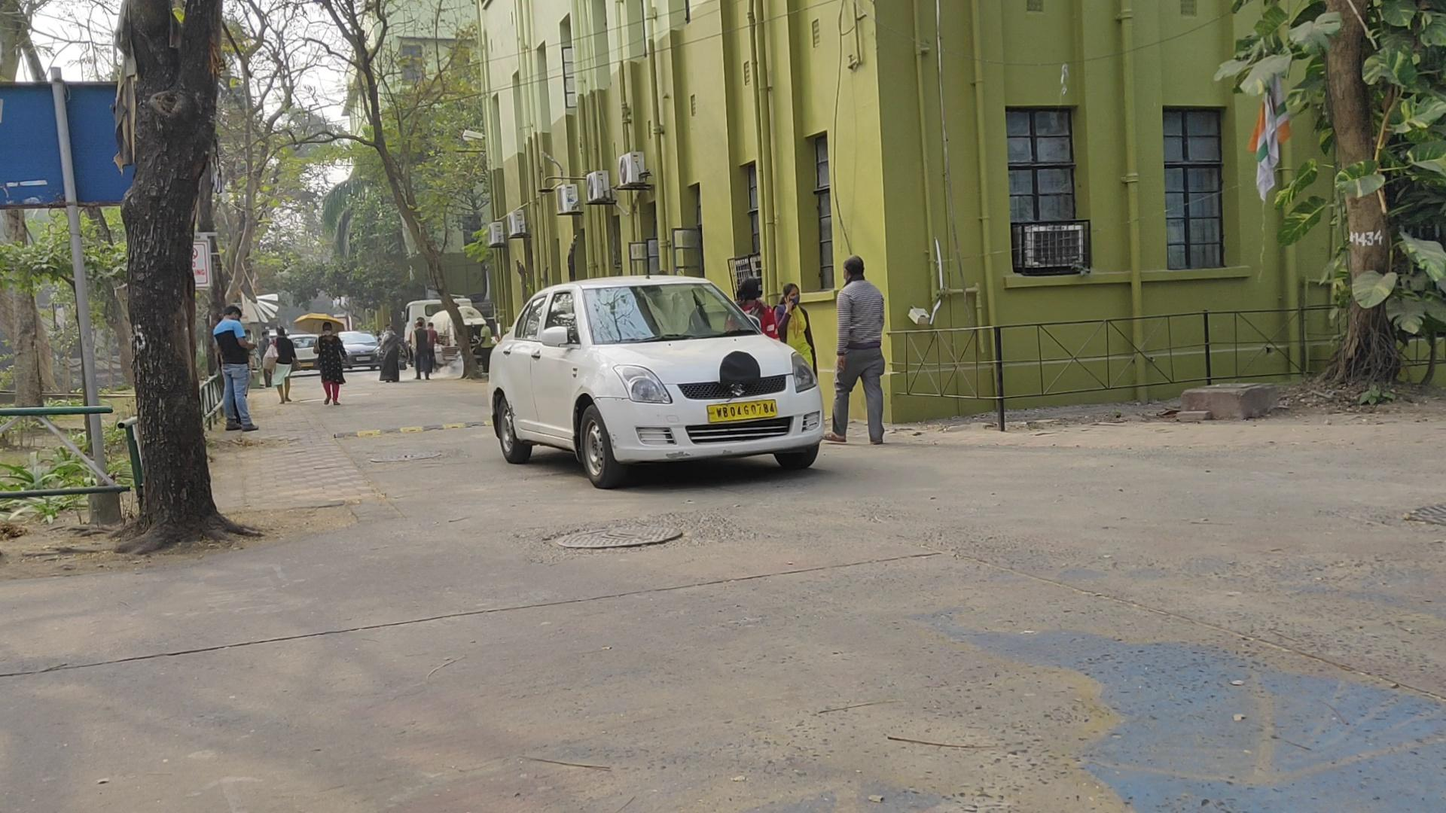car: (488, 273, 824, 489), (337, 330, 385, 372)
